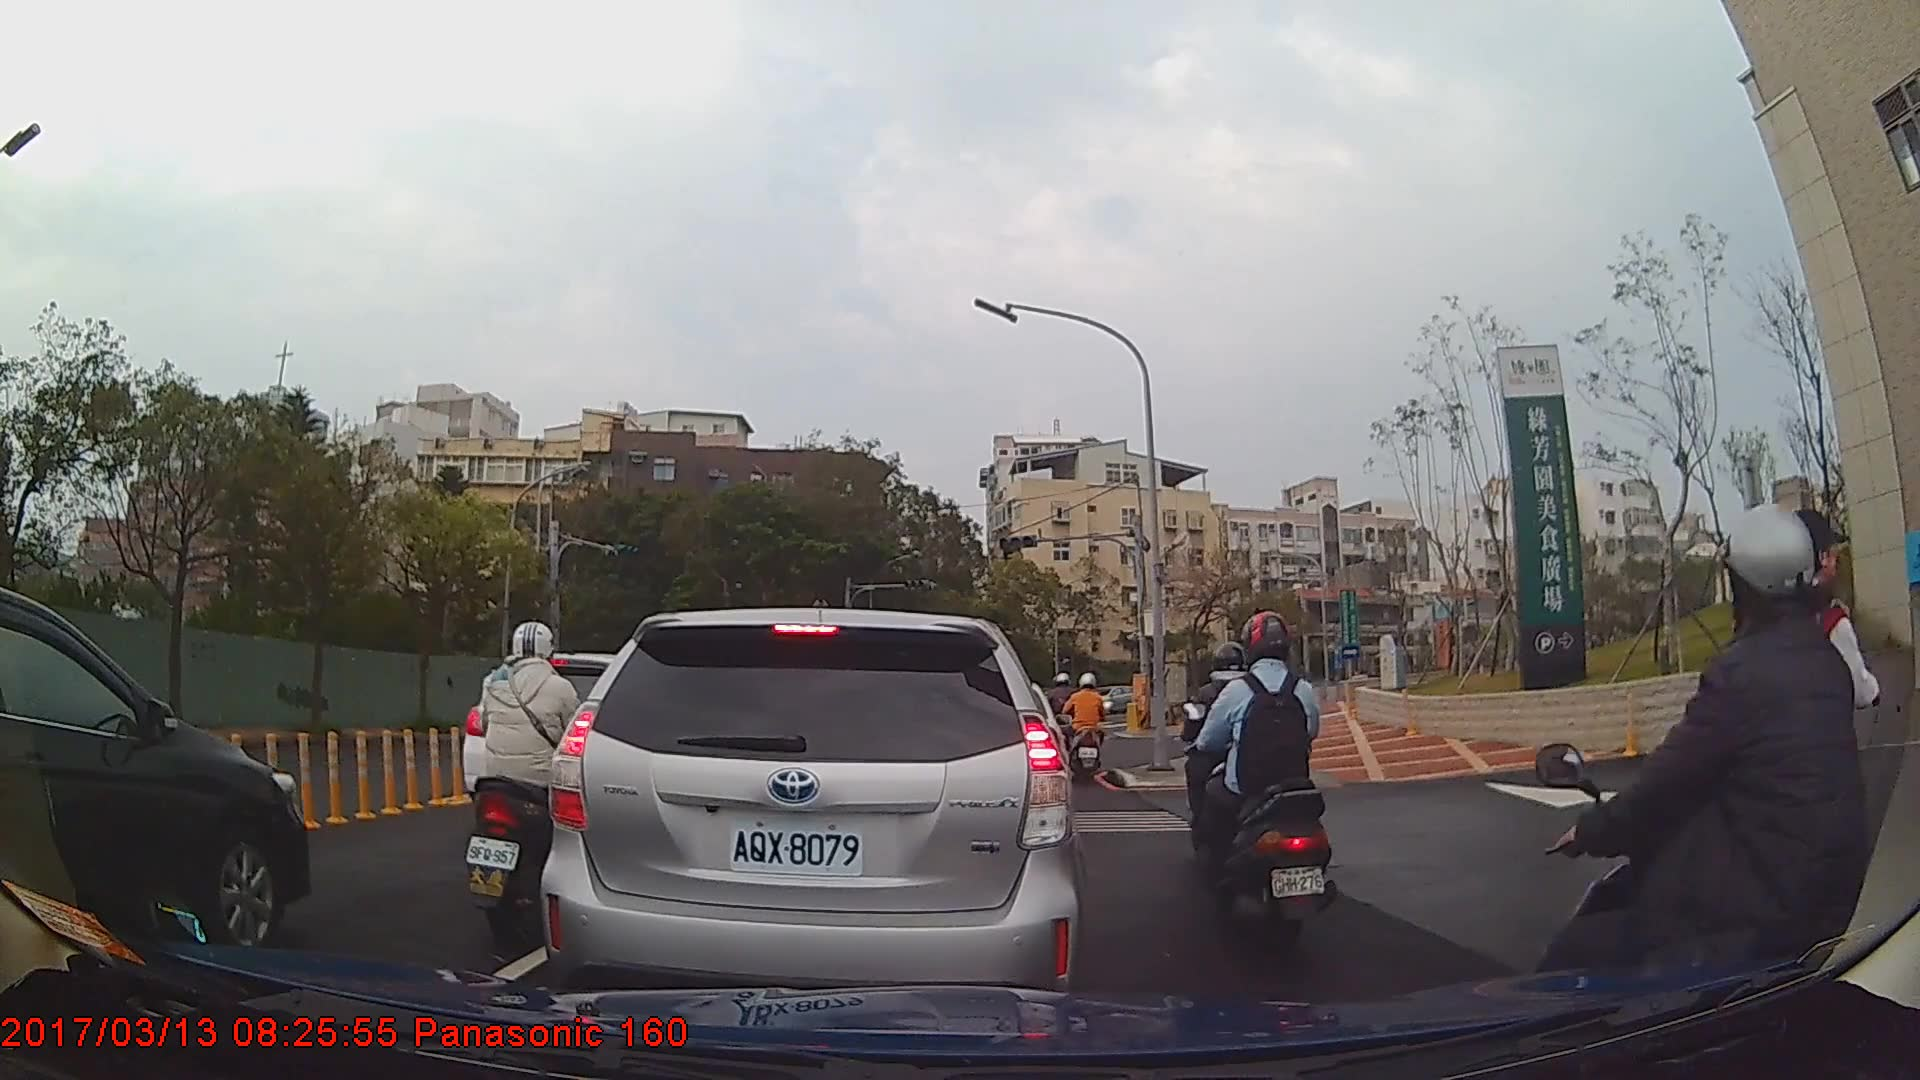rider: (1540, 505, 1896, 1080), (1185, 612, 1331, 956), (465, 620, 609, 939), (1065, 670, 1110, 776)
vehicle: (539, 607, 1086, 1008), (0, 583, 310, 964)
